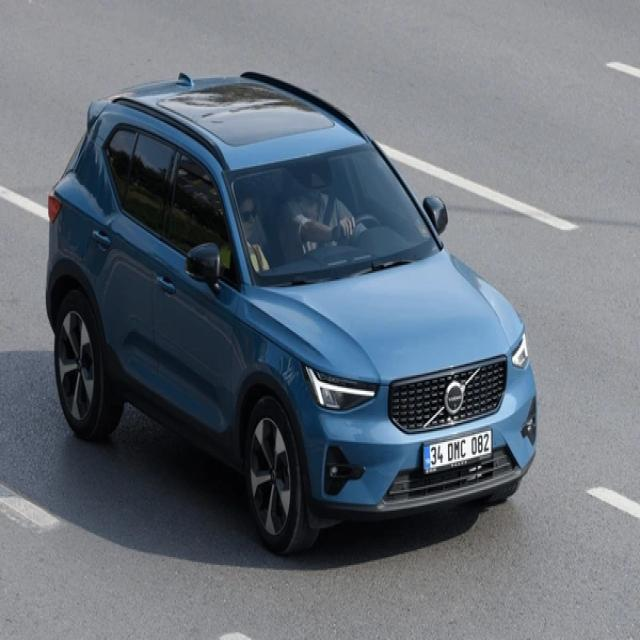volvo: (443, 381, 466, 414)
